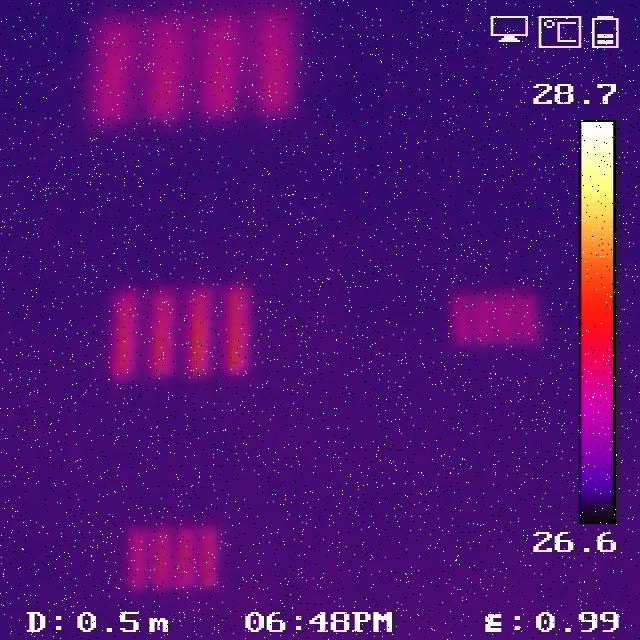Distinguishable 4-bar target: (72, 10, 312, 127), (108, 274, 259, 381), (123, 522, 221, 590)
threshold 4-bar target: (438, 285, 550, 349)
